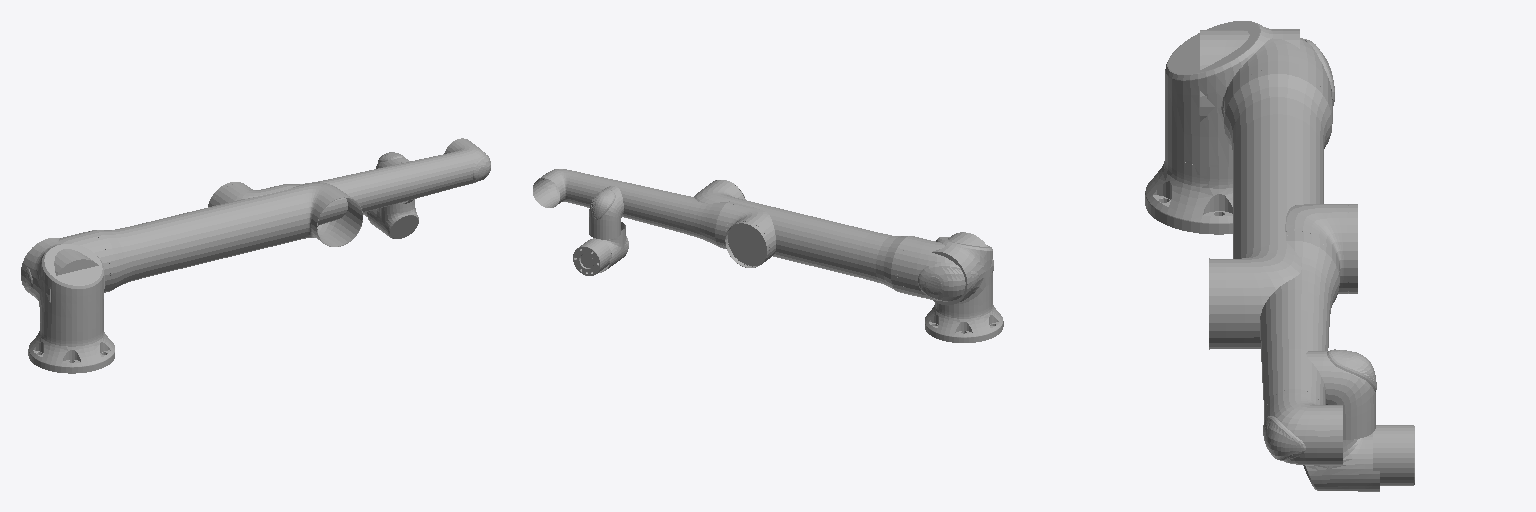
URDF robot description (ur15_robot):
<?xml version="1.0" ?>
<!-- =================================================================================== -->
<!-- |    This document was autogenerated by xacro from ur15.xacro                     | -->
<!-- |    EDITING THIS FILE BY HAND IS NOT RECOMMENDED                                 | -->
<!-- =================================================================================== -->
<robot name="ur15_robot">
  <!--
    Base UR robot series xacro macro.

    NOTE: this is NOT a URDF. It cannot directly be loaded by consumers
    expecting a flattened '.urdf' file. See the top-level '.xacro' for that
    (but note: that .xacro must still be processed by the xacro command).

    For use in '.launch' files: use one of the 'load_urX.launch' convenience
    launch files.

    This file models the base kinematic chain of a UR robot, which then gets
    parameterised by various configuration files to convert it into a UR3(e),
    UR5(e), UR7e, UR10(e), UR12e UR16e, UR15, UR20 or UR30.

    NOTE: the default kinematic parameters (ie: link lengths, frame locations,
    offets, etc) do not correspond to any particular robot. They are defaults
    only. There WILL be non-zero offsets between the Forward Kinematics results
    in TF (ie: robot_state_publisher) and the values reported by the Teach
    Pendant.

    For accurate (and robot-specific) transforms, the 'kinematics_parameters_file'
    parameter MUST point to a .yaml file containing the appropriate values for
    the targetted robot.

    If using the UniversalRobots/Universal_Robots_ROS_Driver, follow the steps
    described in the readme of that repository to extract the kinematic
    calibration from the controller and generate the required .yaml file.

    Main author of the migration to yaml configs: Ludovic Delval.

    Contributors to previous versions (in no particular order):

     - Felix Messmer
     - Kelsey Hawkins
     - Wim Meeussen
     - Shaun Edwards
     - Nadia Hammoudeh Garcia
     - Dave Hershberger
     - G. vd. Hoorn
     - Philip Long
     - Dave Coleman
     - Miguel Prada
     - Mathias Luedtke
     - Marcel Schnirring
     - Felix von Drigalski
     - Felix Exner
     - Jimmy Da Silva
     - Ajit Krisshna N L
     - Muhammad Asif Rana
  -->
  <!--
    NOTE: the macro defined in this file is NOT part of the public API of this
          package. Users CANNOT rely on this file being available, or stored in
          this location. Nor can they rely on the existence of the macro.
  -->
  <transmission name="shoulder_pan_trans">
    <type>transmission_interface/SimpleTransmission</type>
    <joint name="shoulder_pan_joint">
      <hardwareInterface>hardware_interface/PositionJointInterface</hardwareInterface>
    </joint>
    <actuator name="shoulder_pan_motor">
      <mechanicalReduction>1</mechanicalReduction>
    </actuator>
  </transmission>
  <transmission name="shoulder_lift_trans">
    <type>transmission_interface/SimpleTransmission</type>
    <joint name="shoulder_lift_joint">
      <hardwareInterface>hardware_interface/PositionJointInterface</hardwareInterface>
    </joint>
    <actuator name="shoulder_lift_motor">
      <mechanicalReduction>1</mechanicalReduction>
    </actuator>
  </transmission>
  <transmission name="elbow_trans">
    <type>transmission_interface/SimpleTransmission</type>
    <joint name="elbow_joint">
      <hardwareInterface>hardware_interface/PositionJointInterface</hardwareInterface>
    </joint>
    <actuator name="elbow_motor">
      <mechanicalReduction>1</mechanicalReduction>
    </actuator>
  </transmission>
  <transmission name="wrist_1_trans">
    <type>transmission_interface/SimpleTransmission</type>
    <joint name="wrist_1_joint">
      <hardwareInterface>hardware_interface/PositionJointInterface</hardwareInterface>
    </joint>
    <actuator name="wrist_1_motor">
      <mechanicalReduction>1</mechanicalReduction>
    </actuator>
  </transmission>
  <transmission name="wrist_2_trans">
    <type>transmission_interface/SimpleTransmission</type>
    <joint name="wrist_2_joint">
      <hardwareInterface>hardware_interface/PositionJointInterface</hardwareInterface>
    </joint>
    <actuator name="wrist_2_motor">
      <mechanicalReduction>1</mechanicalReduction>
    </actuator>
  </transmission>
  <transmission name="wrist_3_trans">
    <type>transmission_interface/SimpleTransmission</type>
    <joint name="wrist_3_joint">
      <hardwareInterface>hardware_interface/PositionJointInterface</hardwareInterface>
    </joint>
    <actuator name="wrist_3_motor">
      <mechanicalReduction>1</mechanicalReduction>
    </actuator>
  </transmission>
  <!-- links: main serial chain -->
  <link name="base_link"/>
  <link name="base_link_inertia">
    <visual>
      <origin rpy="0 0 3.141592653589793" xyz="0 0 0"/>
      <geometry>
        <mesh filename="package://example-robot-data/robots/universal_robots/meshes_description/ur15/visual/base.dae"/>
      </geometry>
      <material name="LightGrey">
        <color rgba="0.7 0.7 0.7 1.0"/>
      </material>
    </visual>
    <collision>
      <origin rpy="0 0 3.141592653589793" xyz="0 0 0"/>
      <geometry>
        <mesh filename="package://example-robot-data/robots/universal_robots/meshes_description/ur15/collision/base.stl"/>
      </geometry>
    </collision>
    <inertial>
      <mass value="4.0"/>
      <origin rpy="0 0 0" xyz="0 0 0"/>
      <inertia ixx="0.032233320440000005" ixy="0.0" ixz="0.0" iyy="0.032233320440000005" iyz="0.0" izz="0.05780000000000001"/>
    </inertial>
  </link>
  <link name="shoulder_link">
    <visual>
      <origin rpy="0 0 3.141592653589793" xyz="0 0 0"/>
      <geometry>
        <mesh filename="package://example-robot-data/robots/universal_robots/meshes_description/ur15/visual/shoulder.dae"/>
      </geometry>
      <material name="LightGrey">
        <color rgba="0.7 0.7 0.7 1.0"/>
      </material>
    </visual>
    <collision>
      <origin rpy="0 0 3.141592653589793" xyz="0 0 0"/>
      <geometry>
        <mesh filename="package://example-robot-data/robots/universal_robots/meshes_description/ur15/collision/shoulder.stl"/>
      </geometry>
    </collision>
    <inertial>
      <mass value="9.9883"/>
      <origin rpy="1.570796326794897 0 0" xyz="2.4e-05 -0.025304 -0.033309"/>
      <inertia ixx="0.051334" ixy="2.5e-05" ixz="-1.6e-05" iyy="0.047702" iyz="0.008805" izz="0.034263"/>
    </inertial>
  </link>
  <link name="upper_arm_link">
    <visual>
      <origin rpy="1.5707963267948966 0 -1.5707963267948966" xyz="0 0 0.1"/>
      <geometry>
        <mesh filename="package://example-robot-data/robots/universal_robots/meshes_description/ur15/visual/upperarm.dae"/>
      </geometry>
      <material name="LightGrey">
        <color rgba="0.7 0.7 0.7 1.0"/>
      </material>
    </visual>
    <collision>
      <origin rpy="1.5707963267948966 0 -1.5707963267948966" xyz="0 0 0.1"/>
      <geometry>
        <mesh filename="package://example-robot-data/robots/universal_robots/meshes_description/ur15/collision/upperarm.stl"/>
      </geometry>
    </collision>
    <inertial>
      <mass value="14.9255"/>
      <origin rpy="0 0 0" xyz="-0.228491 -8.3e-05 0.192787"/>
      <inertia ixx="0.048202" ixy="0.000232" ixz="-0.032135" iyy="1.188499" iyz="-1.7e-05" izz="1.182771"/>
    </inertial>
  </link>
  <link name="forearm_link">
    <visual>
      <origin rpy="1.5707963267948966 0 -1.5707963267948966" xyz="0 0 0.125"/>
      <geometry>
        <mesh filename="package://example-robot-data/robots/universal_robots/meshes_description/ur15/visual/forearm.dae"/>
      </geometry>
      <material name="LightGrey">
        <color rgba="0.7 0.7 0.7 1.0"/>
      </material>
    </visual>
    <collision>
      <origin rpy="1.5707963267948966 0 -1.5707963267948966" xyz="0 0 0.125"/>
      <geometry>
        <mesh filename="package://example-robot-data/robots/universal_robots/meshes_description/ur15/collision/forearm.stl"/>
      </geometry>
    </collision>
    <inertial>
      <mass value="6.1015"/>
      <origin rpy="0 0 0" xyz="-0.210929 1.9e-05 0.070552"/>
      <inertia ixx="0.018481" ixy="-5e-06" ixz="0.013601" iyy="0.303502" iyz="3e-06" izz="0.296843"/>
    </inertial>
  </link>
  <link name="wrist_1_link">
    <visual>
      <!-- TODO: Move this to a parameter -->
      <origin rpy="1.5707963267948966 0 0" xyz="0 0 -0.0502"/>
      <geometry>
        <mesh filename="package://example-robot-data/robots/universal_robots/meshes_description/ur15/visual/wrist1.dae"/>
      </geometry>
      <material name="LightGrey">
        <color rgba="0.7 0.7 0.7 1.0"/>
      </material>
    </visual>
    <collision>
      <origin rpy="1.5707963267948966 0 0" xyz="0 0 -0.0502"/>
      <geometry>
        <mesh filename="package://example-robot-data/robots/universal_robots/meshes_description/ur15/collision/wrist1.stl"/>
      </geometry>
    </collision>
    <inertial>
      <mass value="2.089"/>
      <origin rpy="1.570796326794897 0 0" xyz="2.5e-05 -0.016413 -0.019695"/>
      <inertia ixx="0.004339" ixy="1.9e-05" ixz="1e-06" iyy="0.002548" iyz="0.000706" izz="0.003912"/>
    </inertial>
  </link>
  <link name="wrist_2_link">
    <visual>
      <origin rpy="0 0 0" xyz="0 0 -0.064"/>
      <geometry>
        <mesh filename="package://example-robot-data/robots/universal_robots/meshes_description/ur15/visual/wrist2.dae"/>
      </geometry>
      <material name="LightGrey">
        <color rgba="0.7 0.7 0.7 1.0"/>
      </material>
    </visual>
    <collision>
      <origin rpy="0 0 0" xyz="0 0 -0.064"/>
      <geometry>
        <mesh filename="package://example-robot-data/robots/universal_robots/meshes_description/ur15/collision/wrist2.stl"/>
      </geometry>
    </collision>
    <inertial>
      <mass value="2.0869"/>
      <origin rpy="-1.570796326794897 0 0" xyz="2.5e-05 0.015886 -0.01996"/>
      <inertia ixx="0.004288" ixy="1.7e-05" ixz="-3e-06" iyy="0.002566" iyz="-0.000716" izz="0.003927"/>
    </inertial>
  </link>
  <link name="wrist_3_link">
    <visual>
      <origin rpy="1.5707963267948966 0 0" xyz="0 0 -0.0715"/>
      <geometry>
        <mesh filename="package://example-robot-data/robots/universal_robots/meshes_description/ur15/visual/wrist3.dae"/>
      </geometry>
      <material name="LightGrey">
        <color rgba="0.7 0.7 0.7 1.0"/>
      </material>
    </visual>
    <collision>
      <origin rpy="1.5707963267948966 0 0" xyz="0 0 -0.0715"/>
      <geometry>
        <mesh filename="package://example-robot-data/robots/universal_robots/meshes_description/ur15/collision/wrist3.stl"/>
      </geometry>
    </collision>
    <inertial>
      <mass value="1.0666"/>
      <origin rpy="0 0 0" xyz="-1.8e-05 -0.000112 -0.053397"/>
      <inertia ixx="0.001406" ixy="-3e-06" ixz="1e-05" iyy="0.001404" iyz="-2.4e-05" izz="0.001002"/>
    </inertial>
  </link>
  <!-- joints: main serial chain -->
  <joint name="base_link-base_link_inertia" type="fixed">
    <parent link="base_link"/>
    <child link="base_link_inertia"/>
    <!-- 'base_link' is REP-103 aligned (so X+ forward), while the internal
           frames of the robot/controller have X+ pointing backwards.
           Use the joint between 'base_link' and 'base_link_inertia' (a dummy
           link/frame) to introduce the necessary rotation over Z (of pi rad).
      -->
    <origin rpy="0 0 3.141592653589793" xyz="0 0 0"/>
  </joint>
  <joint name="shoulder_pan_joint" type="revolute">
    <parent link="base_link_inertia"/>
    <child link="shoulder_link"/>
    <origin rpy="0 0 0" xyz="0 0 0.2186"/>
    <axis xyz="0 0 1"/>
    <limit effort="433.0" lower="-6.283185307179586" upper="6.283185307179586" velocity="3.141592653589793"/>
    <dynamics damping="0" friction="0"/>
  </joint>
  <joint name="shoulder_lift_joint" type="revolute">
    <parent link="shoulder_link"/>
    <child link="upper_arm_link"/>
    <origin rpy="1.570796327 0 0" xyz="0 0 0"/>
    <axis xyz="0 0 1"/>
    <limit effort="433.0" lower="-6.283185307179586" upper="6.283185307179586" velocity="3.141592653589793"/>
    <dynamics damping="0" friction="0"/>
  </joint>
  <joint name="elbow_joint" type="revolute">
    <parent link="upper_arm_link"/>
    <child link="forearm_link"/>
    <origin rpy="0 0 0" xyz="-0.6475 0 0"/>
    <axis xyz="0 0 1"/>
    <limit effort="204.0" lower="-3.141592653589793" upper="3.141592653589793" velocity="4.1887902047863905"/>
    <dynamics damping="0" friction="0"/>
  </joint>
  <joint name="wrist_1_joint" type="revolute">
    <parent link="forearm_link"/>
    <child link="wrist_1_link"/>
    <origin rpy="0 0 0" xyz="-0.5164 0 0.1824"/>
    <axis xyz="0 0 1"/>
    <limit effort="70.0" lower="-6.283185307179586" upper="6.283185307179586" velocity="5.235987755982989"/>
    <dynamics damping="0" friction="0"/>
  </joint>
  <joint name="wrist_2_joint" type="revolute">
    <parent link="wrist_1_link"/>
    <child link="wrist_2_link"/>
    <origin rpy="1.570796327 0 0" xyz="0 -0.1361 -2.791457662093657e-11"/>
    <axis xyz="0 0 1"/>
    <limit effort="70.0" lower="-6.283185307179586" upper="6.283185307179586" velocity="5.235987755982989"/>
    <dynamics damping="0" friction="0"/>
  </joint>
  <joint name="wrist_3_joint" type="revolute">
    <parent link="wrist_2_link"/>
    <child link="wrist_3_link"/>
    <origin rpy="1.570796326589793 3.141592653589793 3.141592653589793" xyz="0 0.1434 -2.941183164909849e-11"/>
    <axis xyz="0 0 1"/>
    <limit effort="70.0" lower="-6.283185307179586" upper="6.283185307179586" velocity="5.235987755982989"/>
    <dynamics damping="0" friction="0"/>
  </joint>
  <!-- ROS-Industrial 'base' frame: base_link to UR 'Base' Coordinates transform -->
  <link name="base"/>
  <joint name="base_link-base_fixed_joint" type="fixed">
    <!-- Note the rotation over Z of pi radians: as base_link is REP-103
           aligned (ie: has X+ forward, Y+ left and Z+ up), this is needed
           to correctly align 'base' with the 'Base' coordinate system of
           the UR controller.
      -->
    <origin rpy="0 0 3.141592653589793" xyz="0 0 0"/>
    <parent link="base_link"/>
    <child link="base"/>
  </joint>
  <!-- ROS-Industrial 'flange' frame: attachment point for EEF models -->
  <link name="flange"/>
  <joint name="wrist_3-flange" type="fixed">
    <parent link="wrist_3_link"/>
    <child link="flange"/>
    <origin rpy="0 -1.5707963267948966 -1.5707963267948966" xyz="0 0 0"/>
  </joint>
  <!-- ROS-Industrial 'tool0' frame: all-zeros tool frame -->
  <link name="tool0"/>
  <joint name="flange-tool0" type="fixed">
    <!-- default toolframe: X+ left, Y+ up, Z+ front -->
    <origin rpy="1.5707963267948966 0 1.5707963267948966" xyz="0 0 0"/>
    <parent link="flange"/>
    <child link="tool0"/>
  </joint>
</robot>

--- Render facts (derived) ---
3 views of the same robot in one strip: view 1: azimuth 30°, elevation 25°; view 2: azimuth 150°, elevation 25°; view 3: azimuth 270°, elevation 25° (orthographic).
Robot: ur15_robot — 11 links, 10 joints (6 revolute, 4 fixed); root link base_link; default pose: every joint at zero.
Visible links, largest first — view 1: upper_arm_link, forearm_link, shoulder_link, base_link_inertia, wrist_2_link; view 2: upper_arm_link, forearm_link, base_link_inertia, shoulder_link, wrist_1_link, wrist_3_link, wrist_2_link; view 3: upper_arm_link, forearm_link, shoulder_link, base_link_inertia, wrist_1_link, wrist_2_link, wrist_3_link.
Link boxes in pixels (x1=…): upper_arm_link: x1=25, y1=182, x2=362, y2=302; forearm_link: x1=208, y1=138, x2=490, y2=225; shoulder_link: x1=21, y1=238, x2=103, y2=333; base_link_inertia: x1=28, y1=323, x2=114, y2=373; wrist_2_link: x1=367, y1=199, x2=418, y2=238; upper_arm_link: x1=694, y1=180, x2=993, y2=301; forearm_link: x1=533, y1=169, x2=775, y2=267; base_link_inertia: x1=925, y1=298, x2=1003, y2=342; shoulder_link: x1=932, y1=237, x2=992, y2=311; wrist_1_link: x1=589, y1=186, x2=623, y2=239; wrist_3_link: x1=573, y1=238, x2=611, y2=275; wrist_2_link: x1=599, y1=222, x2=628, y2=272; upper_arm_link: x1=1200, y1=30, x2=1334, y2=349; forearm_link: x1=1260, y1=204, x2=1357, y2=465; shoulder_link: x1=1165, y1=21, x2=1299, y2=176; base_link_inertia: x1=1145, y1=148, x2=1232, y2=234; wrist_1_link: x1=1306, y1=349, x2=1376, y2=439; wrist_2_link: x1=1303, y1=433, x2=1379, y2=491; wrist_3_link: x1=1373, y1=425, x2=1414, y2=485.
Bounding box of the posed robot: 1.55 × 0.4465 × 0.3153 m (x, y, z).
7 mesh visuals loaded from 7 distinct referenced files (7 Collada DAE).
